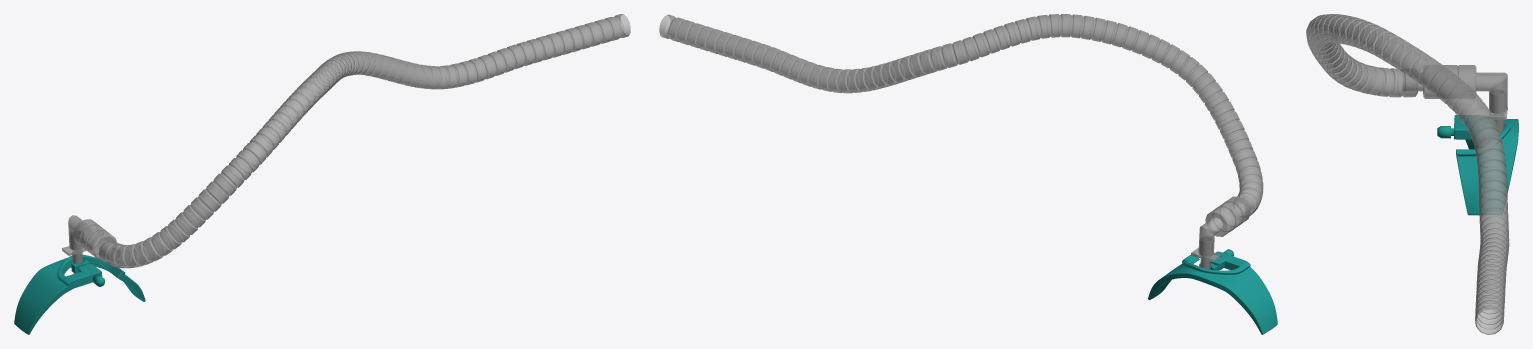
File: Endotracheal_tube.FBX
3 views of the same model, side by side, from view 1: azimuth 30°, elevation 25°; view 2: azimuth 150°, elevation 25°; view 3: azimuth 270°, elevation 25° (orthographic). The views are drawn at different scales.
Visible parts, largest first — view 1: Endotracheal tube holder; view 2: Endotracheal tube holder; view 3: Endotracheal tube holder.
Part boxes in pixels (box(x1,y1,x2,y2)): Endotracheal tube holder: box(14, 14, 630, 334); Endotracheal tube holder: box(659, 14, 1277, 334); Endotracheal tube holder: box(1306, 14, 1518, 334).
Bounding box in the file's own units: 10 × 3.52 × 2.5.
